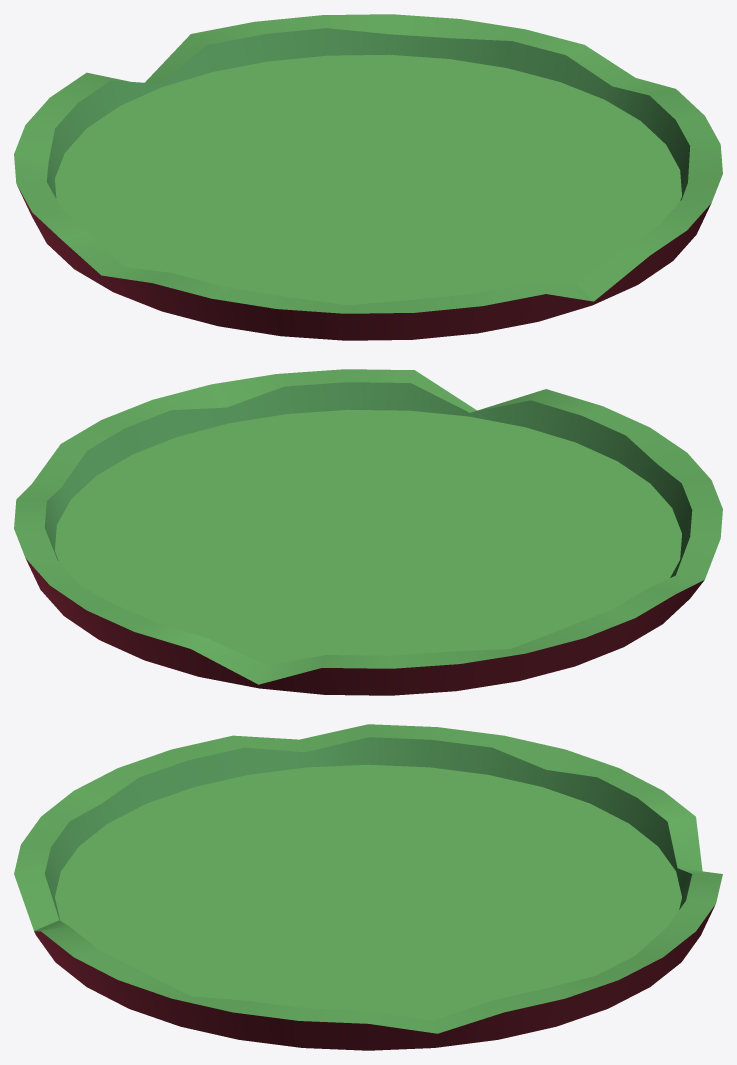
The model's file is VitoriaRegiaGrande.fbx.
3 renders of one model, top to bottom at view 1: azimuth 30°, elevation 25°; view 2: azimuth 150°, elevation 25°; view 3: azimuth 270°, elevation 25°, orthographic.
Parts seen in each view (by area): view 1: VitoriaRegia_LOD0; view 2: VitoriaRegia_LOD0; view 3: VitoriaRegia_LOD0.
Boxes of the visible parts, x1=… form: VitoriaRegia_LOD0: x1=14, y1=14, x2=722, y2=340; VitoriaRegia_LOD0: x1=14, y1=369, x2=722, y2=695; VitoriaRegia_LOD0: x1=14, y1=724, x2=722, y2=1050.
Size of what is drawn, in the model's own units: 4.8 by 0.25 by 4.8.
